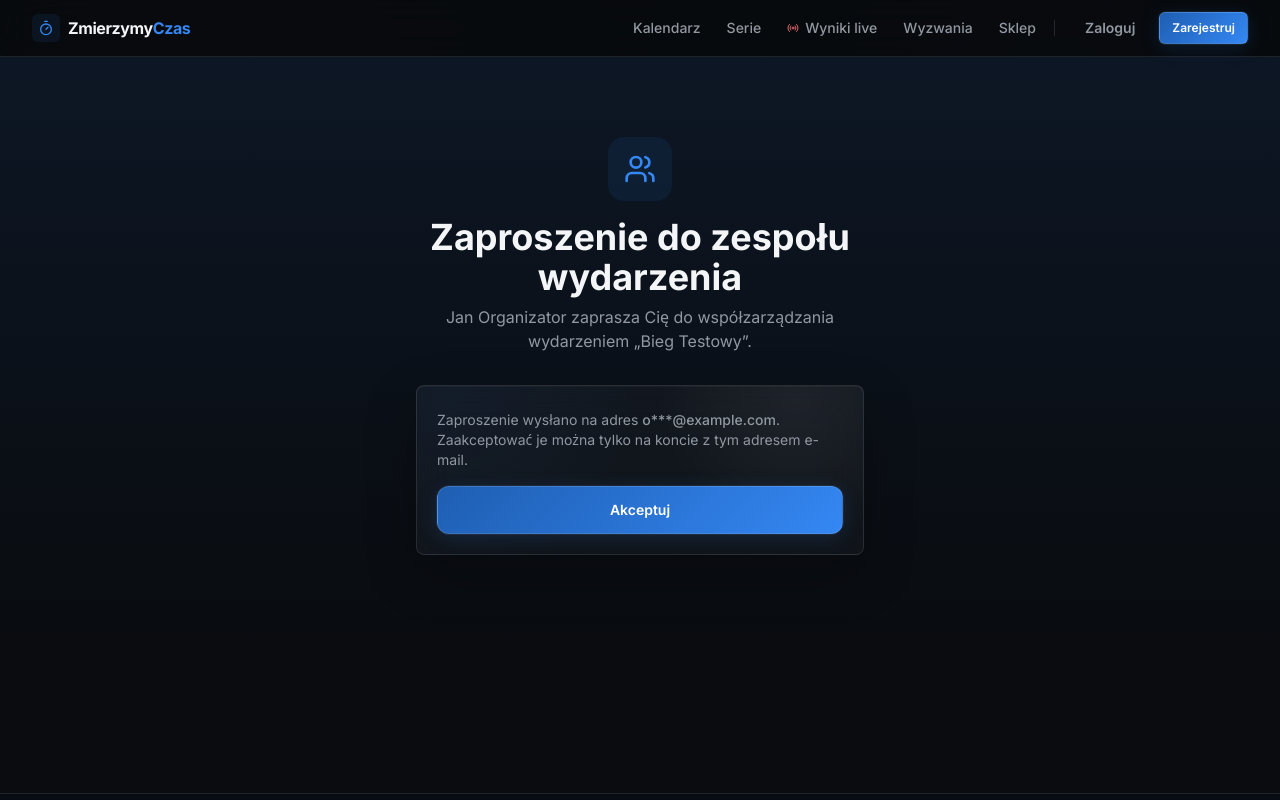
Test case: TeamInvitationPage › explains an expired invitation (410 on accept)
Click the button "Akceptuj" at (640, 510), box [437,486,843,534]
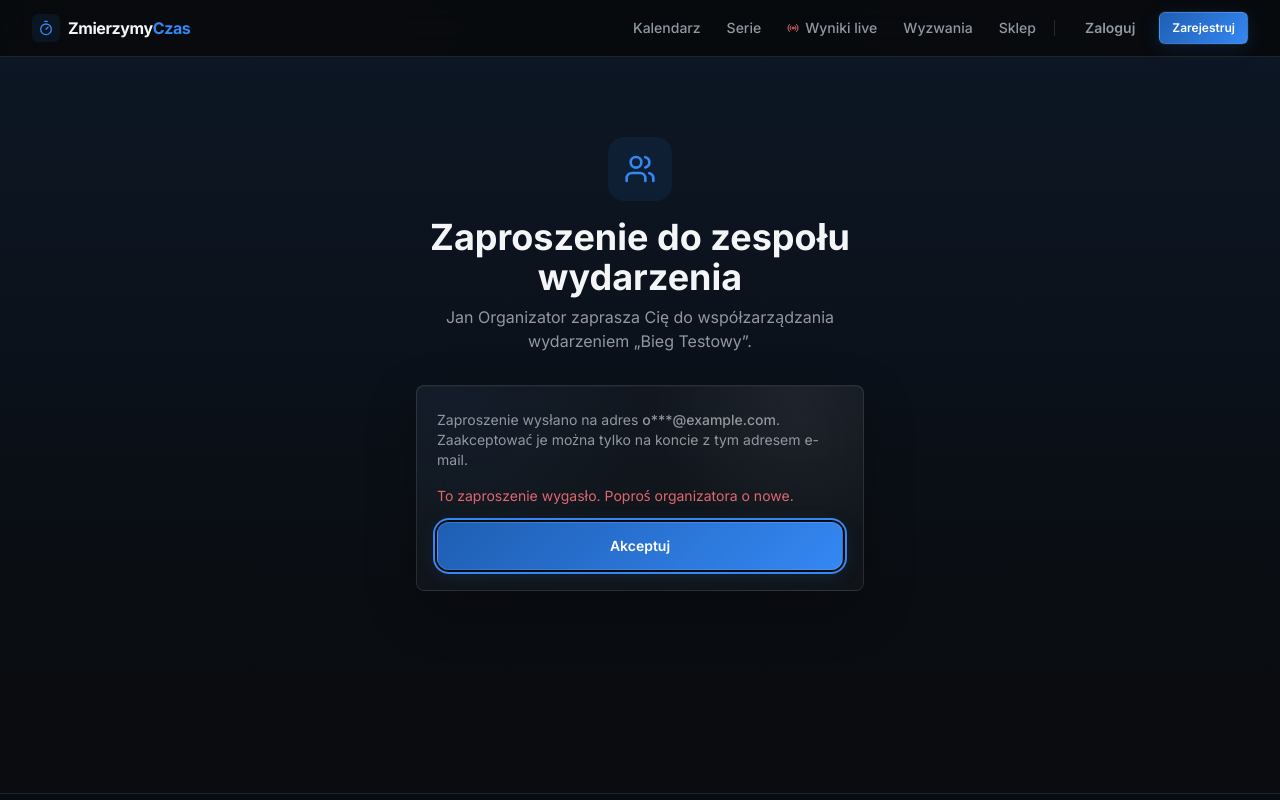
Result: the text "To zaproszenie wygasło. Poproś organizatora o nowe." is shown at [437,486,843,506]
